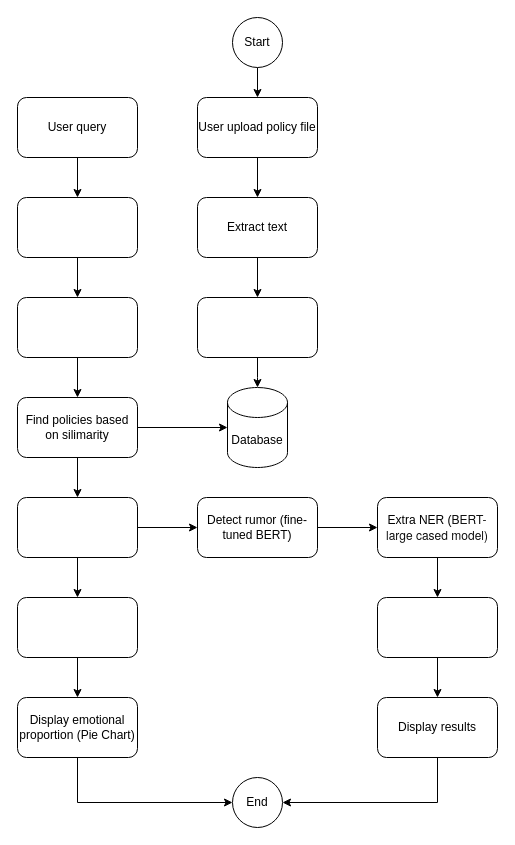
Image size: 515x845. Some labels were removed from this diagram. The shapes that lost their labels are listed below. From the top down, each one's box as (x1, y1, x2, y2) in pixels, then its label:
(16, 196, 138, 258): Scrapping posts on Reddit based on query
(16, 296, 138, 358): Scrapping comments under the post
(196, 296, 318, 358): Vectorize text
(16, 496, 138, 558): Save to JSONL file
(16, 596, 138, 658): Sentiment analysis ( RoBERTa)
(376, 596, 498, 658): Feature attrition (IntegratedGradients)
